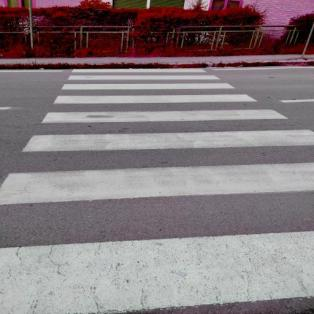Paso de Cebra: (33, 92, 291, 129), (63, 67, 224, 83)
